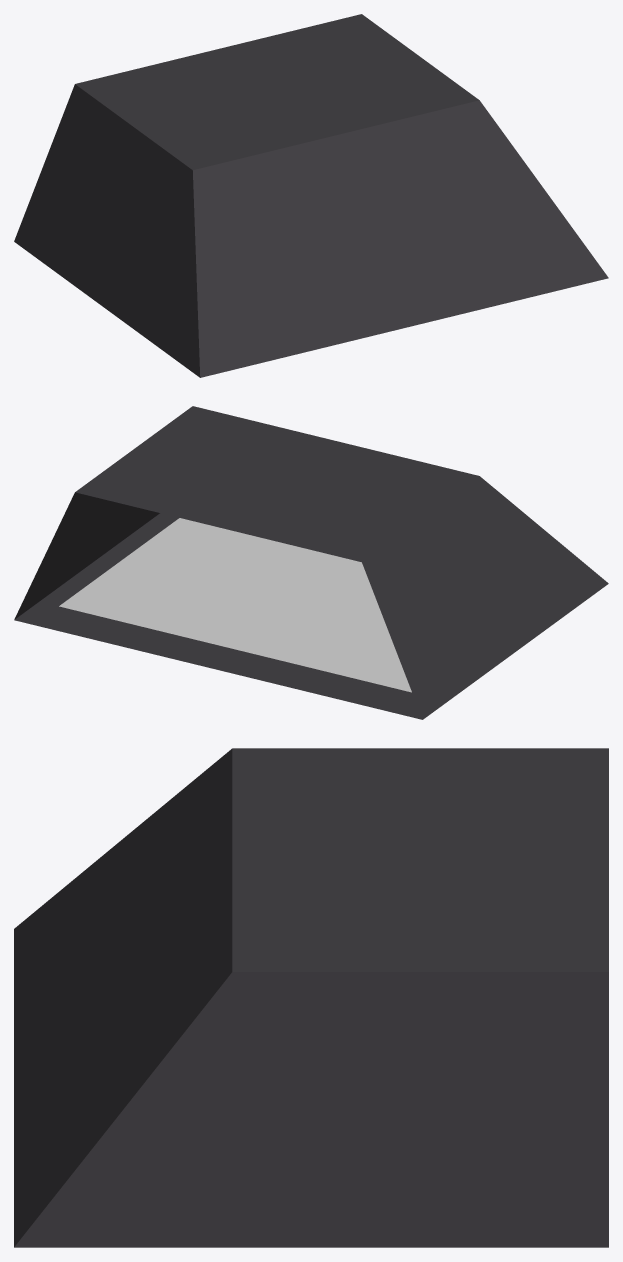
File: RoofLight01.fbx
The picture shows the model from 3 angles, top to bottom: view 1: azimuth 30°, elevation 25°; view 2: azimuth 150°, elevation 25°; view 3: azimuth 270°, elevation 25°; orthographic projection. The views are drawn at different scales.
Parts seen in each view (by area): view 1: Cube.039; view 2: Cube.039; view 3: Cube.039.
Boxes of the visible parts, x1=… form: Cube.039: x1=14, y1=14, x2=608, y2=377; Cube.039: x1=14, y1=406, x2=608, y2=719; Cube.039: x1=14, y1=748, x2=608, y2=1247.
Size of the model in its own units: 0.5149 by 0.1719 by 0.4063.
